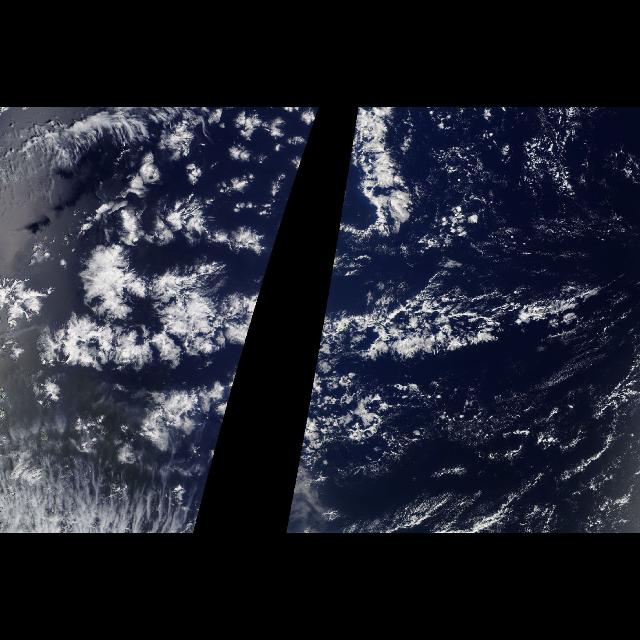Fish: (314, 228, 596, 374), (47, 228, 280, 372), (339, 108, 426, 222)
Flower: (18, 108, 306, 376)
Sugar: (478, 198, 630, 290), (498, 344, 608, 396)
